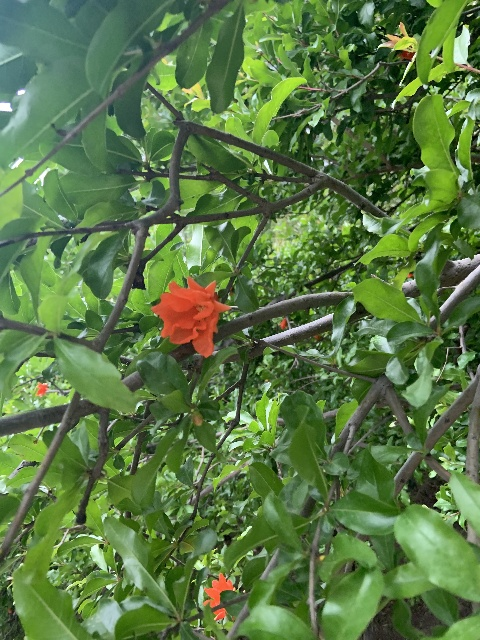bud: (191, 411, 203, 426)
flower: (150, 276, 232, 357), (202, 572, 235, 619), (34, 382, 48, 396), (279, 317, 288, 330)
